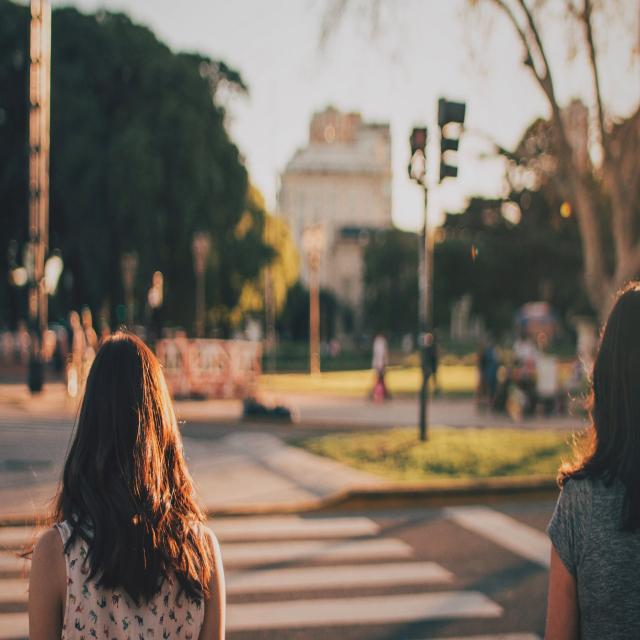adult: (28, 328, 228, 640), (545, 282, 640, 640)
